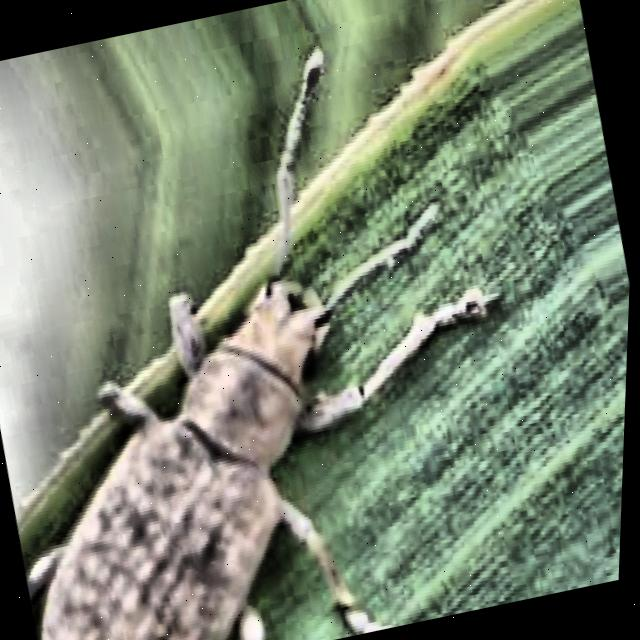Stink bug: (0, 0, 611, 640)
